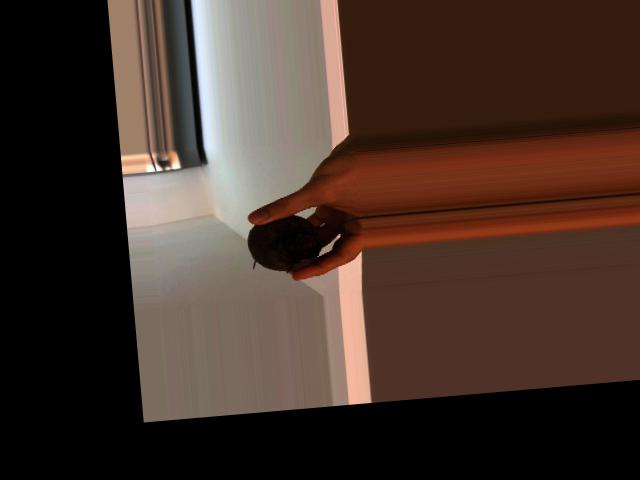beet: (244, 207, 366, 276)
